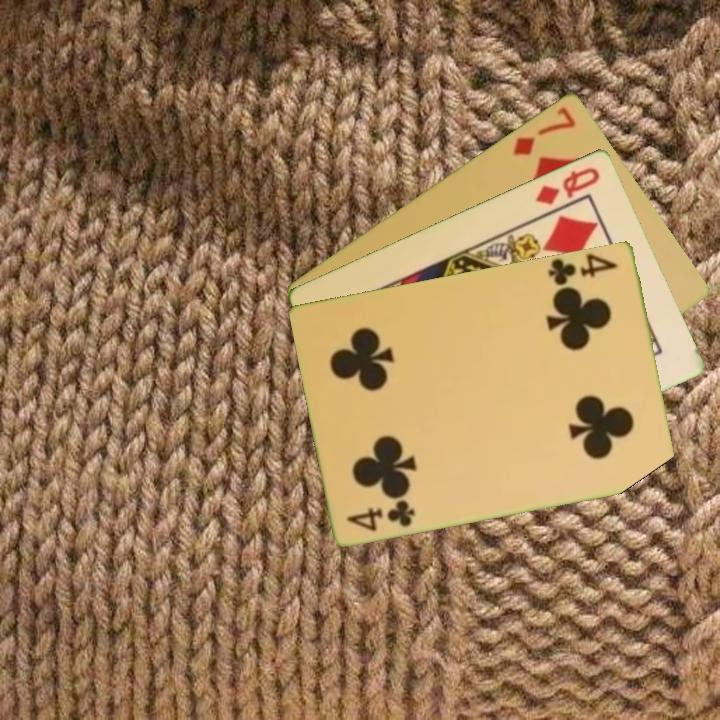4c: (545, 250, 621, 288), (343, 496, 418, 534)
7d: (509, 102, 579, 158)
Qd: (531, 163, 603, 208)
